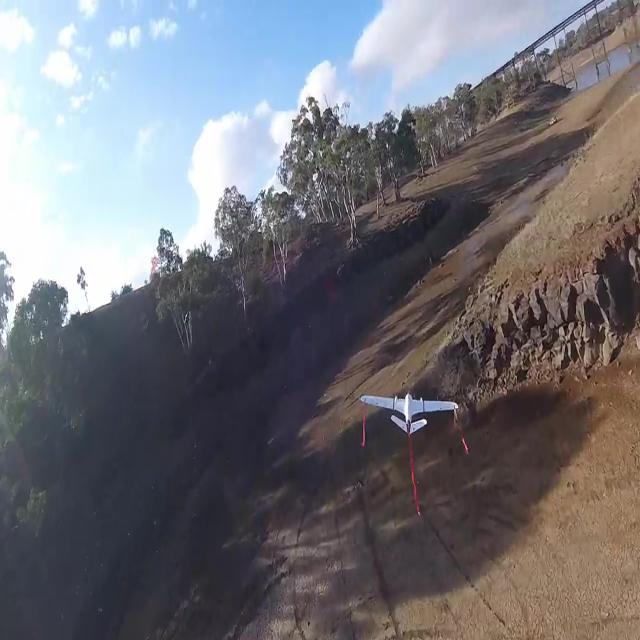iha: (391, 389, 427, 437)
